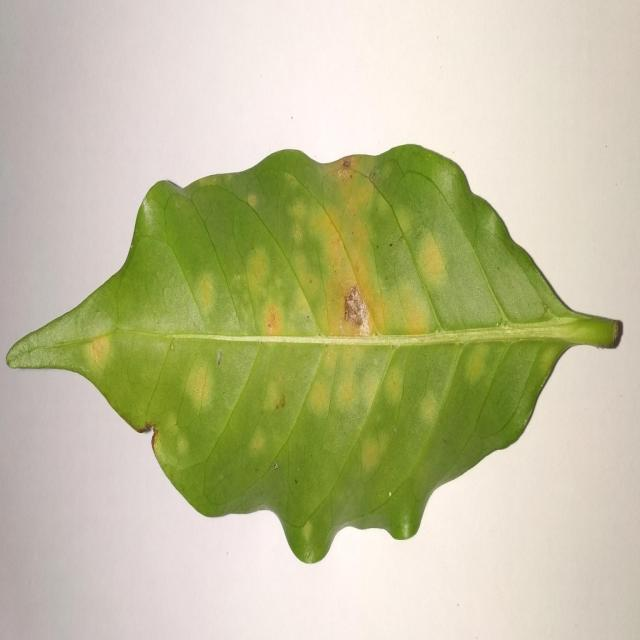Enfermedad-Roya: (5, 144, 624, 568)
